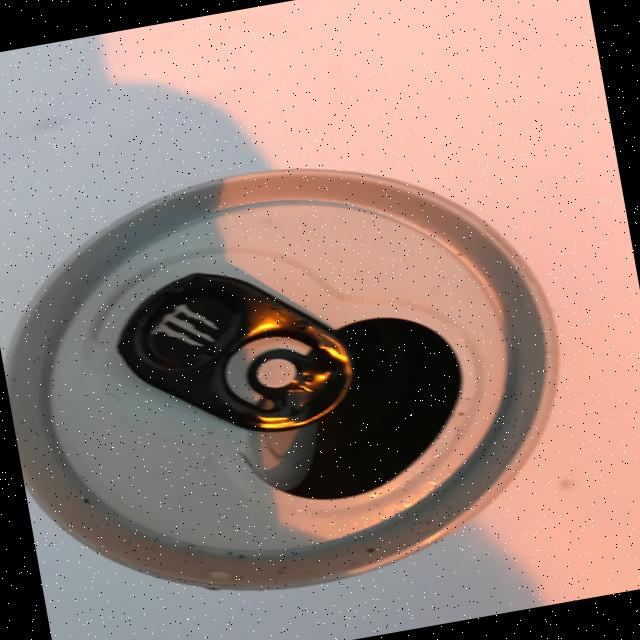metal: (0, 122, 592, 631)
